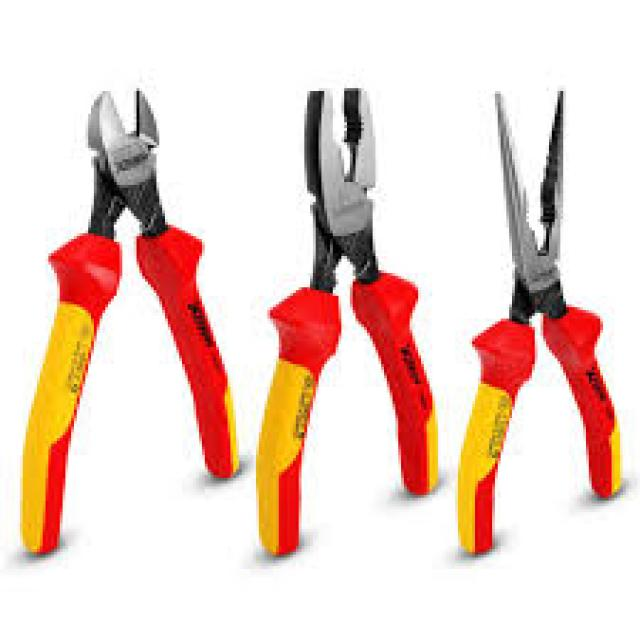wire_cutter: (20, 88, 242, 555), (256, 85, 441, 560)
